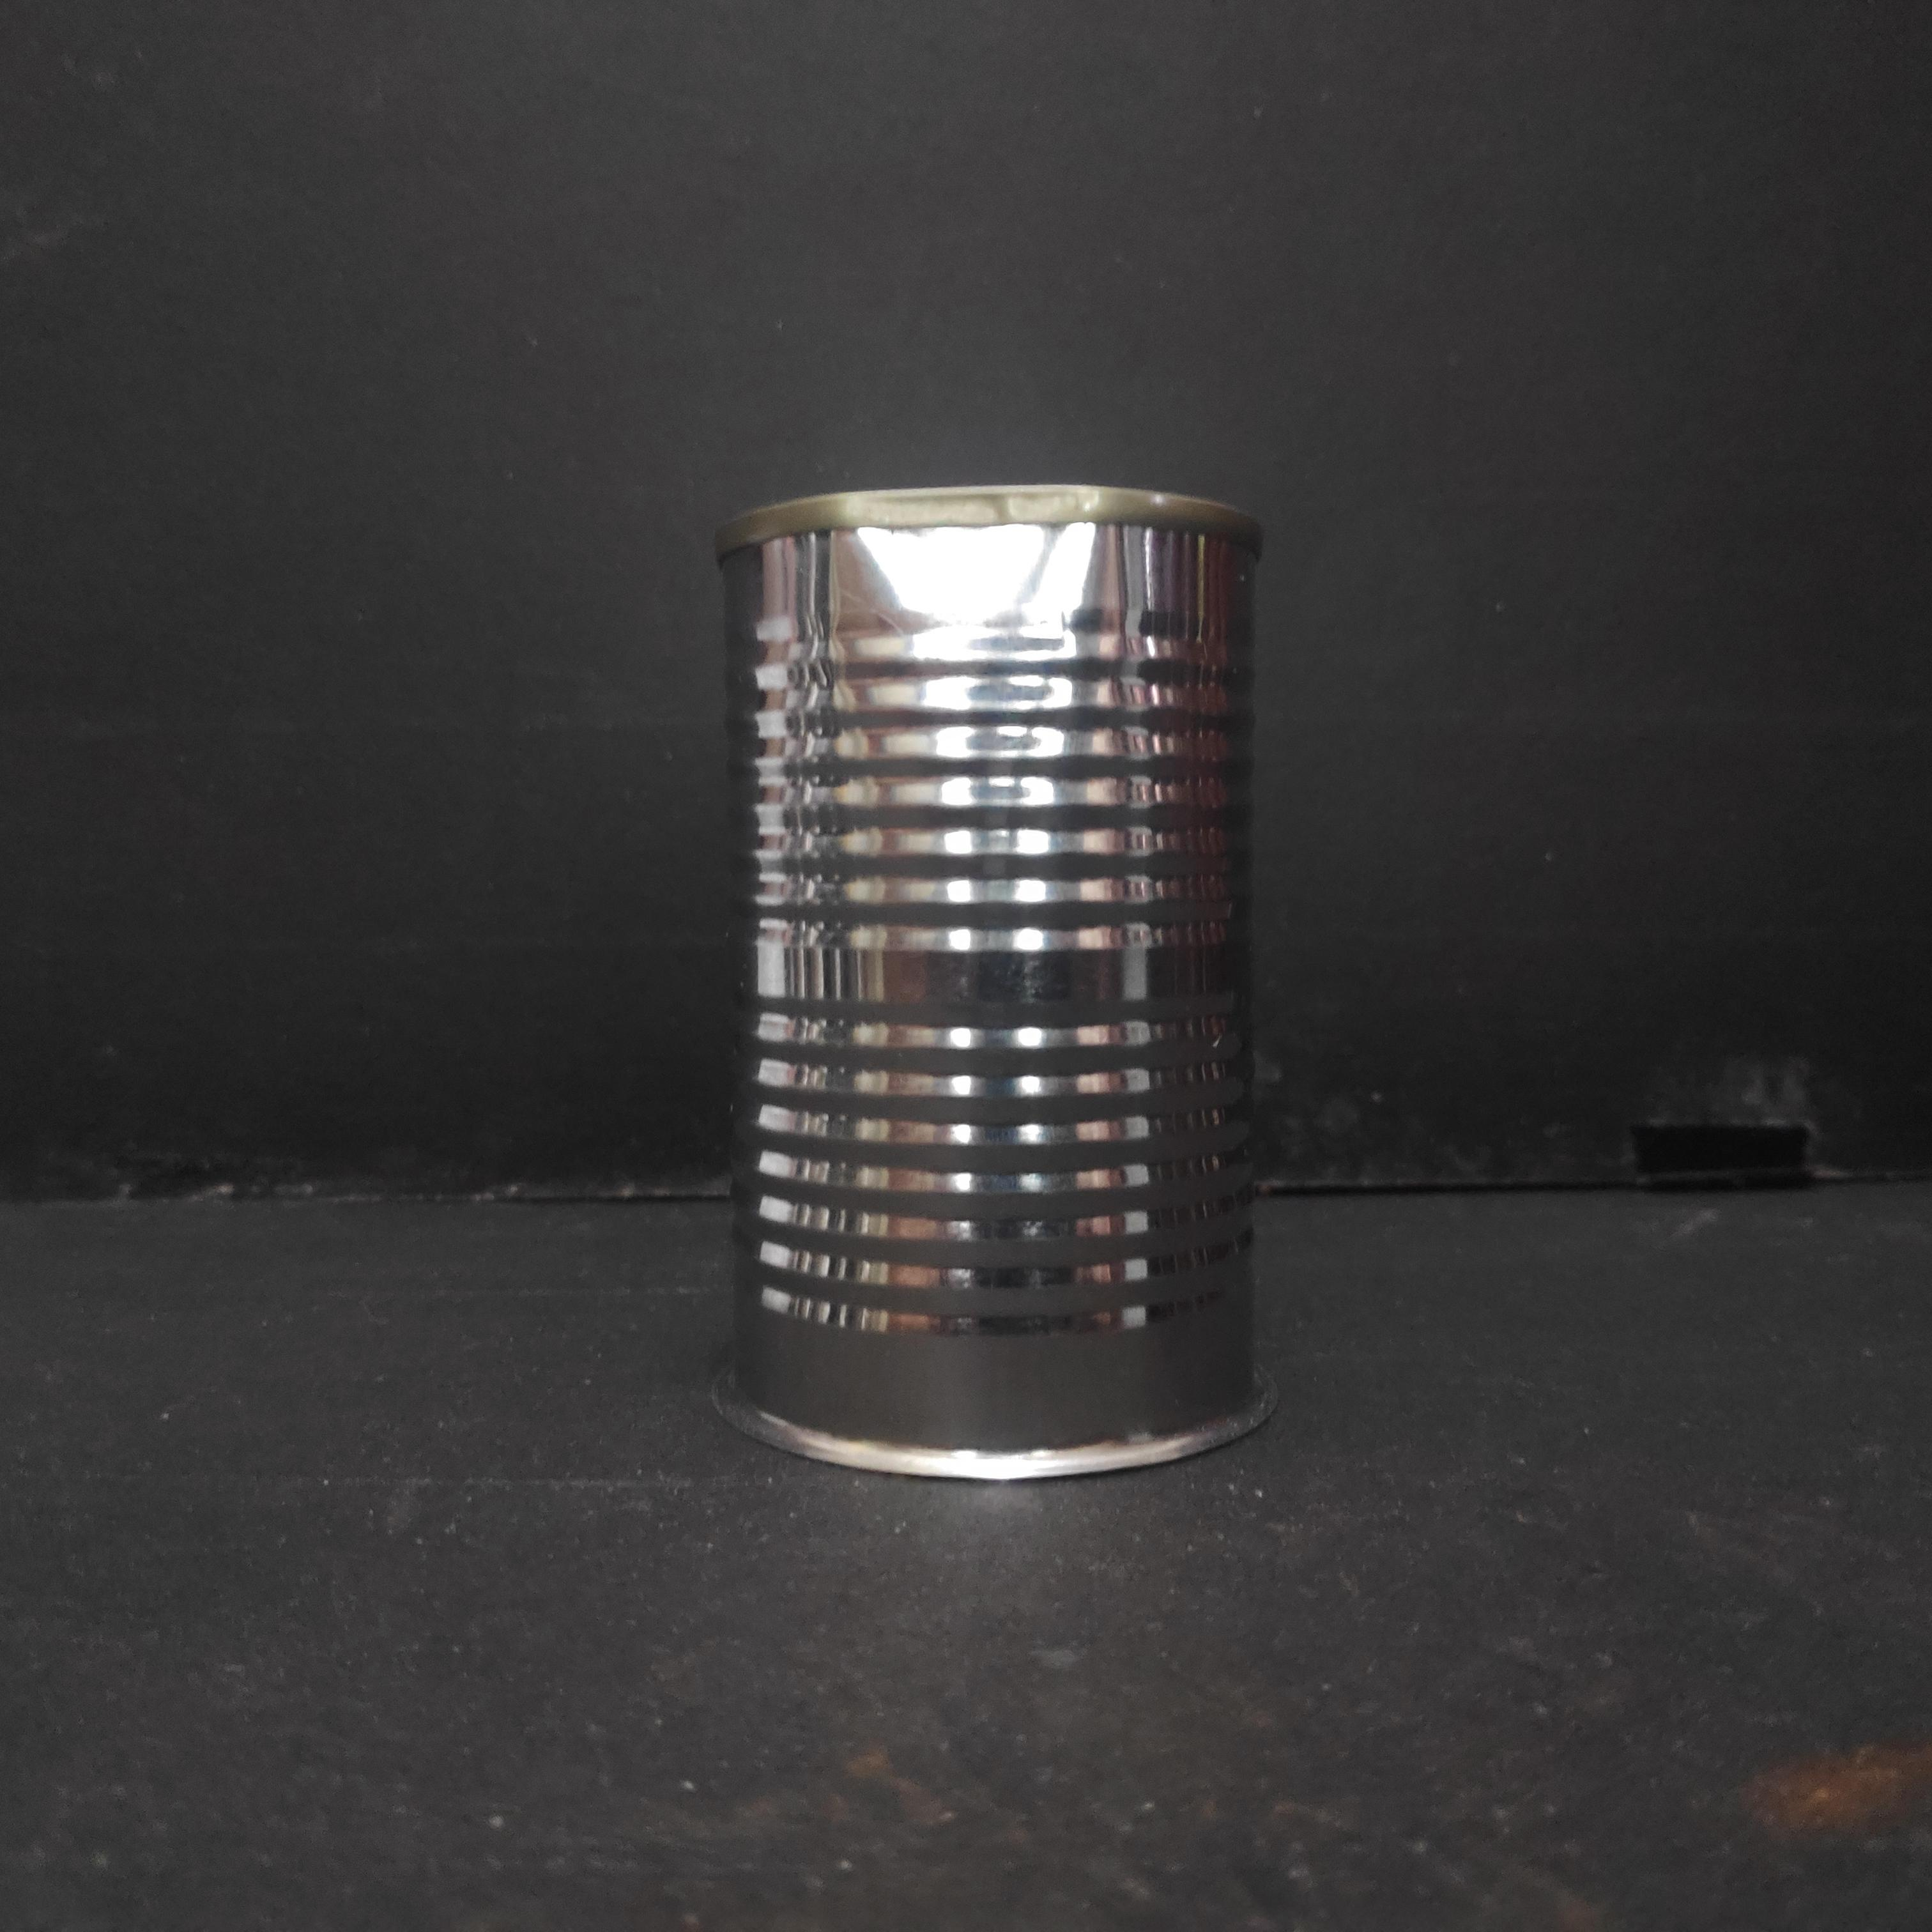Minor Defect: (704, 474, 1290, 1497)
